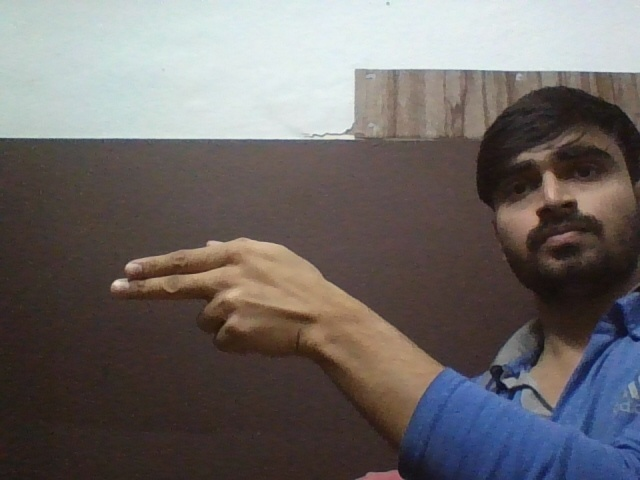H: (102, 235, 335, 368)
